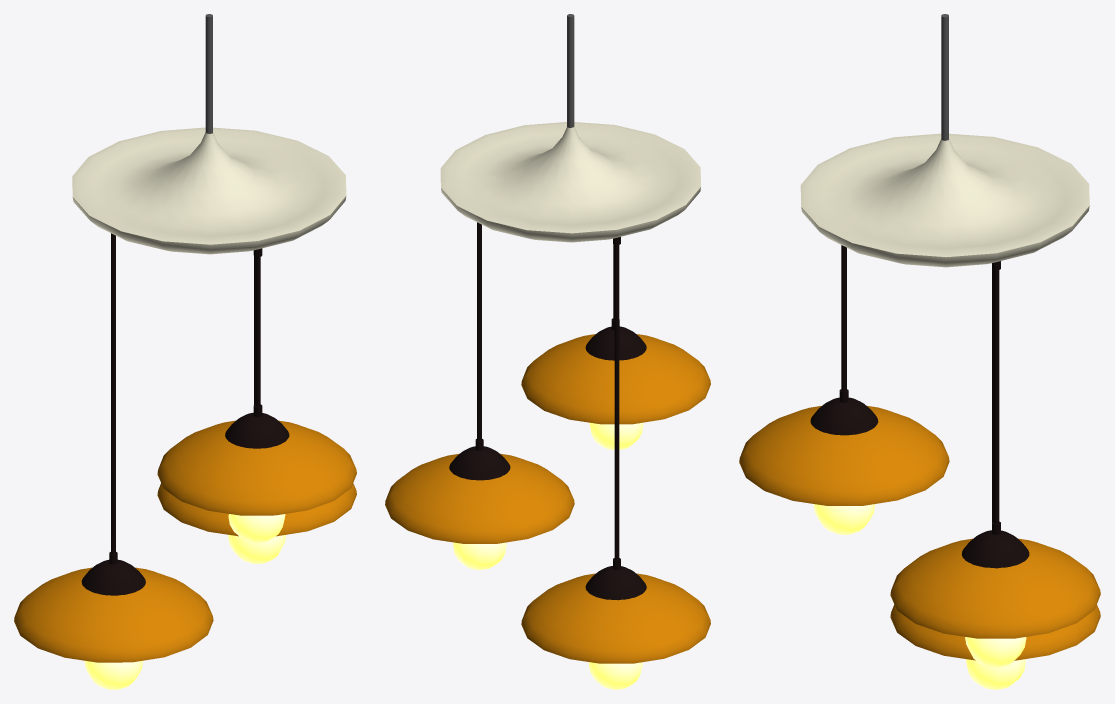
File: BigLamp.fbx
The picture shows the model from 3 angles, left to right: view 1: azimuth 30°, elevation 25°; view 2: azimuth 150°, elevation 25°; view 3: azimuth 270°, elevation 25°; orthographic projection. The views are drawn at different scales.
Visible parts, largest first — view 1: Plate, Top4, Top, Top3, Cap, Cap4, WireMain4, Bulb4, Bulb, Bulb3, WireMain, Wire; view 2: Plate, Top4, Top3, Top, WireMain4, Cap3, Cap4, Cap, WireMain3, Bulb4, Bulb3, Bulb (+1 smaller); view 3: Plate, Top3, Top, Top4, Cap, Cap3, WireMain3, Bulb3, Bulb, Bulb4, Wire, WireMain.
Part boxes in pixels (x1,y1,x2,y2): Plate: [72, 127, 346, 254]; Top4: [14, 567, 213, 662]; Top: [157, 420, 356, 515]; Top3: [157, 483, 356, 536]; Cap: [225, 412, 289, 448]; Cap4: [81, 559, 145, 595]; WireMain4: [109, 233, 117, 564]; Bulb4: [84, 660, 142, 689]; Bulb: [228, 514, 285, 543]; Bulb3: [228, 535, 285, 563]; WireMain: [253, 257, 262, 417]; Wire: [205, 14, 212, 133]; Plate: [440, 122, 700, 242]; Top4: [521, 573, 710, 663]; Top3: [385, 453, 574, 543]; Top: [521, 334, 710, 424]; WireMain4: [613, 245, 620, 570]; Cap3: [449, 446, 510, 480]; Cap4: [585, 566, 646, 600]; Cap: [585, 326, 646, 360]; WireMain3: [475, 222, 483, 450]; Bulb4: [589, 662, 642, 689]; Bulb3: [453, 542, 506, 570]; Bulb: [589, 422, 643, 450]; Plate: [800, 133, 1089, 267]; Top3: [890, 538, 1100, 638]; Top: [739, 406, 949, 505]; Top4: [890, 604, 1100, 660]; Cap: [810, 397, 878, 435]; Cap3: [961, 530, 1029, 568]; WireMain3: [992, 270, 1000, 534]; Bulb3: [965, 637, 1026, 667]; Bulb: [813, 504, 875, 534]; Bulb4: [965, 659, 1025, 689]; Wire: [941, 14, 948, 140]; WireMain: [839, 245, 848, 402].
Size of the model in its own units: 3.16 by 6.46 by 2.99.
